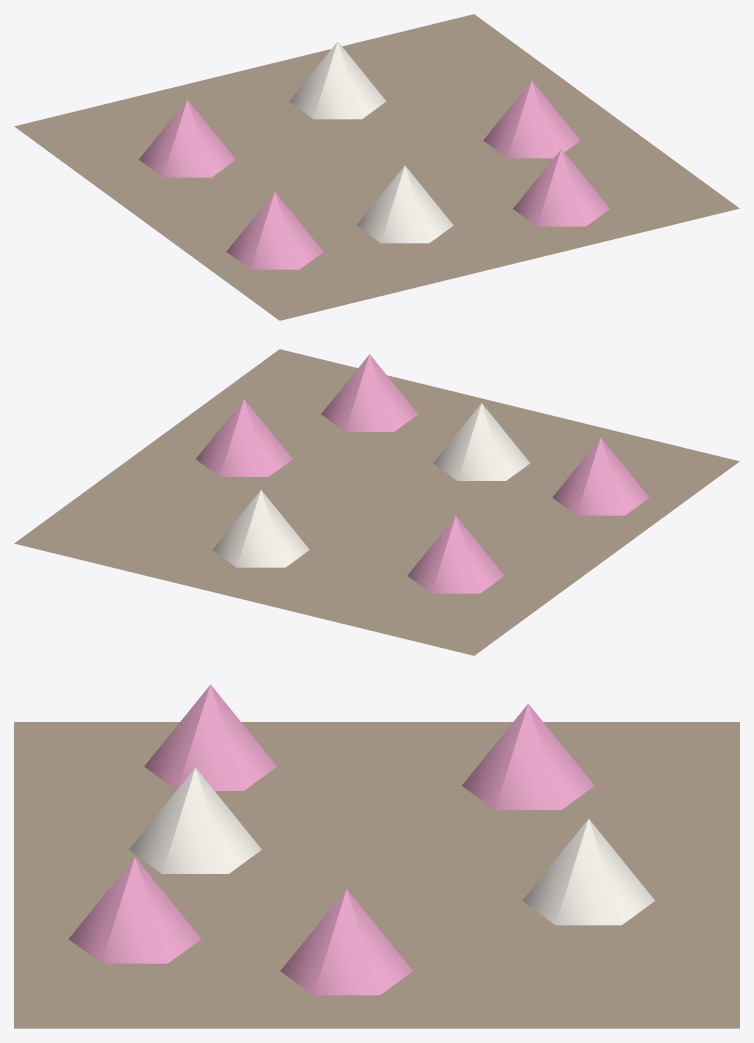
Rendered from flower-patch-bloomed.gltf.
The picture shows the model from 3 angles, top to bottom: view 1: azimuth 30°, elevation 25°; view 2: azimuth 150°, elevation 25°; view 3: azimuth 270°, elevation 25°; orthographic projection. The views are drawn at different scales.
Parts seen in each view (by area): view 1: Patch, Bloom1, Bloom3, Bloom0, Bloom4, Bloom5, Bloom2; view 2: Patch, Bloom4, Bloom0, Bloom1, Bloom3, Bloom2, Bloom5; view 3: Patch, Bloom1, Bloom2, Bloom5, Bloom3, Bloom0, Bloom4.
Boxes of the visible parts, <box> form: Patch: <box>14,14,739,320</box>; Bloom1: <box>289,41,386,119</box>; Bloom3: <box>356,165,453,243</box>; Bloom0: <box>139,99,235,177</box>; Bloom4: <box>226,192,323,269</box>; Bloom5: <box>513,149,609,226</box>; Bloom2: <box>483,80,580,158</box>; Patch: <box>14,349,739,655</box>; Bloom4: <box>552,438,649,515</box>; Bloom0: <box>407,516,504,593</box>; Bloom1: <box>212,490,309,567</box>; Bloom3: <box>433,403,529,480</box>; Bloom2: <box>195,399,292,476</box>; Bloom5: <box>321,354,417,431</box>; Patch: <box>14,722,739,1028</box>; Bloom1: <box>522,819,654,925</box>; Bloom2: <box>280,889,412,995</box>; Bloom5: <box>68,857,201,963</box>; Bloom3: <box>129,767,261,873</box>; Bloom0: <box>462,703,594,809</box>; Bloom4: <box>144,684,276,790</box>.
Size of the model in its own units: 2.4 by 0.3 by 2.4.
